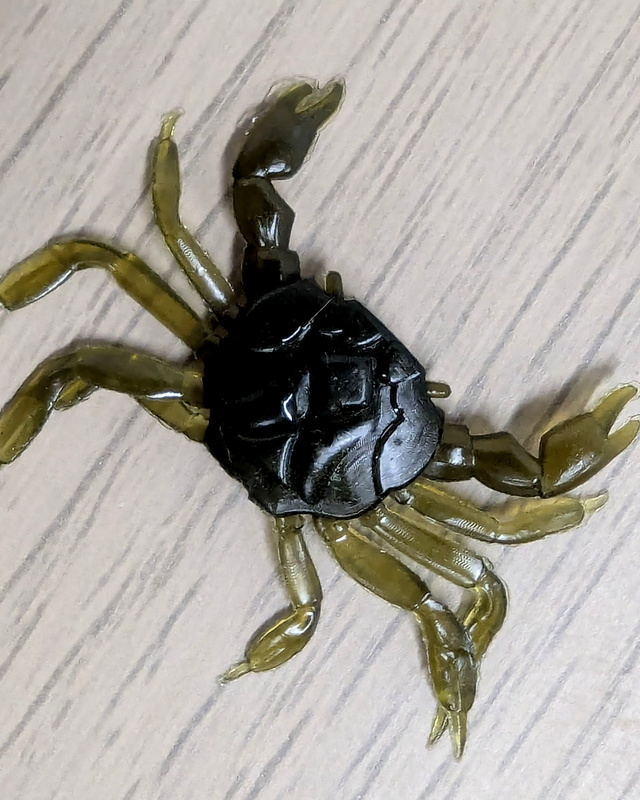crab2: (1, 76, 639, 765)
